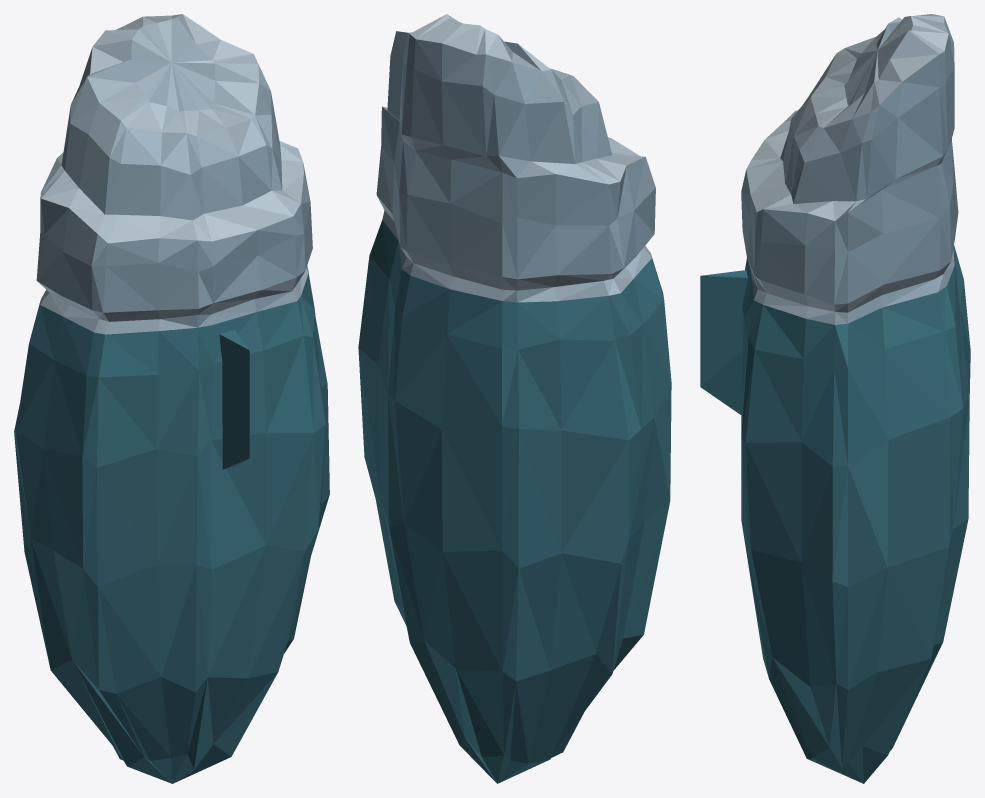
The model's file is iceberg_wedge.glb.
3 renders of one model, left to right at view 1: azimuth 30°, elevation 25°; view 2: azimuth 150°, elevation 25°; view 3: azimuth 270°, elevation 25°, orthographic. The views are drawn at different scales.
Parts seen in each view (by area): view 1: iceberg_wedge; view 2: iceberg_wedge; view 3: iceberg_wedge.
Part boxes in pixels (box(x1,y1,x2,y2)): iceberg_wedge: box(14, 14, 329, 783); iceberg_wedge: box(358, 14, 671, 783); iceberg_wedge: box(700, 14, 970, 783).
Bounding box in the file's own units: 12.6 × 31 × 9.91.
